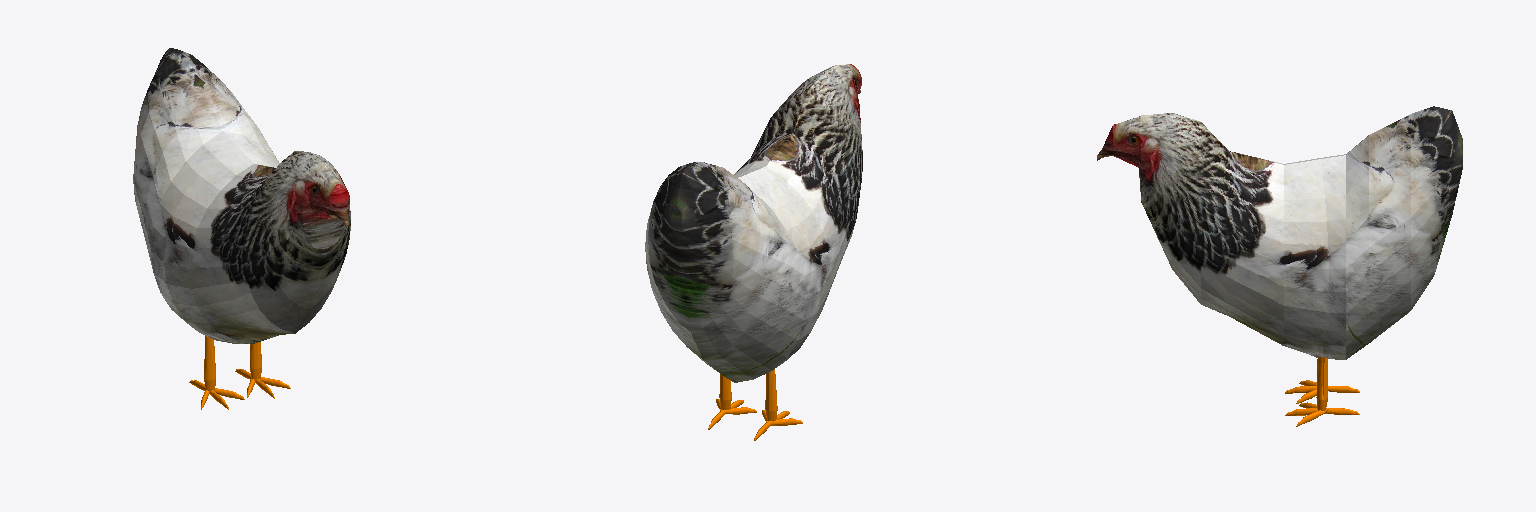
3 views of the same model, side by side, from view 1: azimuth 30°, elevation 25°; view 2: azimuth 150°, elevation 25°; view 3: azimuth 270°, elevation 25° (orthographic).
Visible parts, largest first — view 1: Layer0_001; view 2: Layer0_001; view 3: Layer0_001.
Boxes of the visible parts, box(x1,y1,x2,y2) form: Layer0_001: box(133, 48, 350, 409); Layer0_001: box(645, 64, 862, 440); Layer0_001: box(1097, 106, 1462, 426).
Size of the model in its own units: 39.83 by 79.35 by 87.74.
Materials: 3 (1 with a texture image).